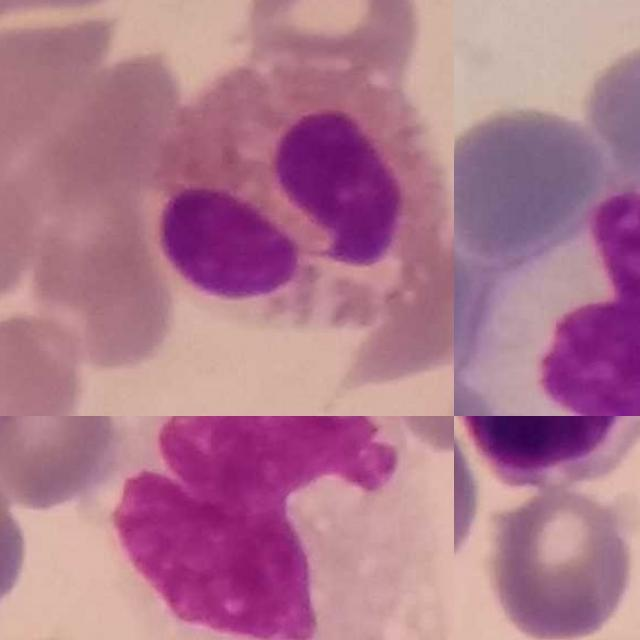Eosinophil: (147, 62, 453, 326)
Lymphocyte: (454, 416, 640, 493)
Monocyte: (100, 416, 450, 640), (481, 173, 640, 416)
